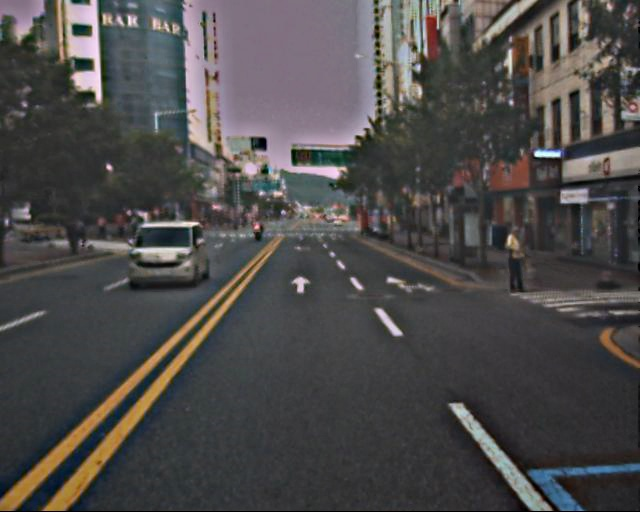person: (500, 227, 530, 297)
